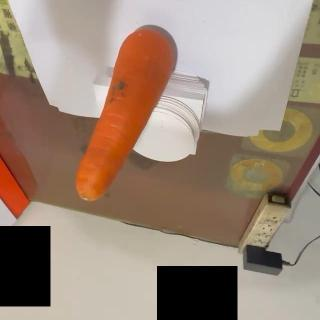carrot: (73, 28, 178, 203)
